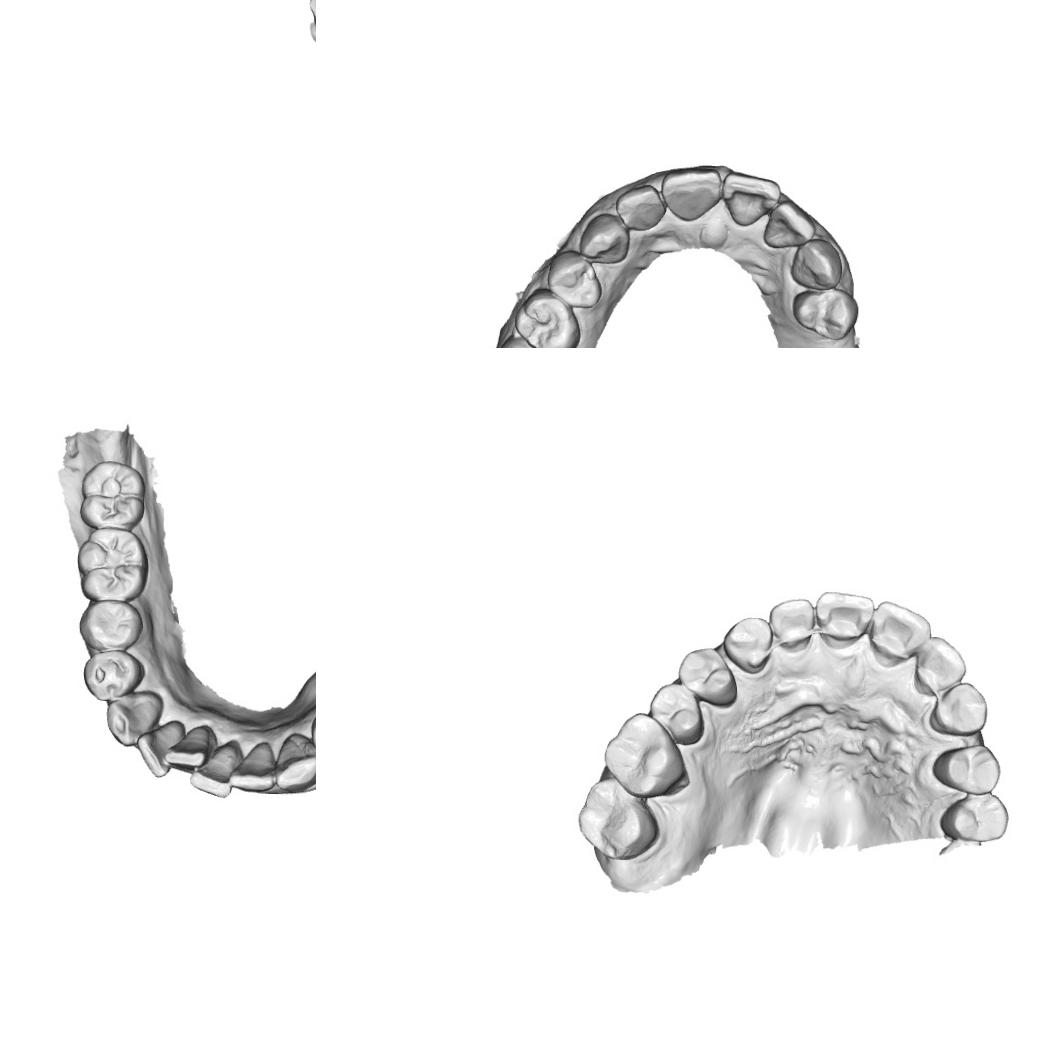canine: (104, 688, 165, 746), (927, 680, 990, 736), (721, 614, 773, 676), (788, 236, 844, 290), (577, 212, 630, 264), (273, 732, 316, 793)
incisor: (866, 600, 934, 668), (813, 590, 876, 652), (658, 164, 723, 222), (911, 634, 968, 698), (720, 170, 781, 229), (134, 720, 186, 778), (766, 596, 817, 655), (762, 199, 816, 251), (227, 739, 278, 793), (614, 182, 667, 232), (190, 744, 236, 799), (164, 724, 213, 770)
molar: (600, 710, 688, 800), (575, 774, 662, 862), (75, 526, 150, 604), (78, 458, 146, 531), (512, 286, 583, 348), (485, 331, 558, 348)
premolar: (789, 286, 861, 342), (676, 645, 739, 709), (936, 791, 1011, 844), (647, 681, 707, 747), (930, 742, 1002, 796), (545, 249, 603, 310), (80, 649, 145, 703), (78, 599, 144, 651)
